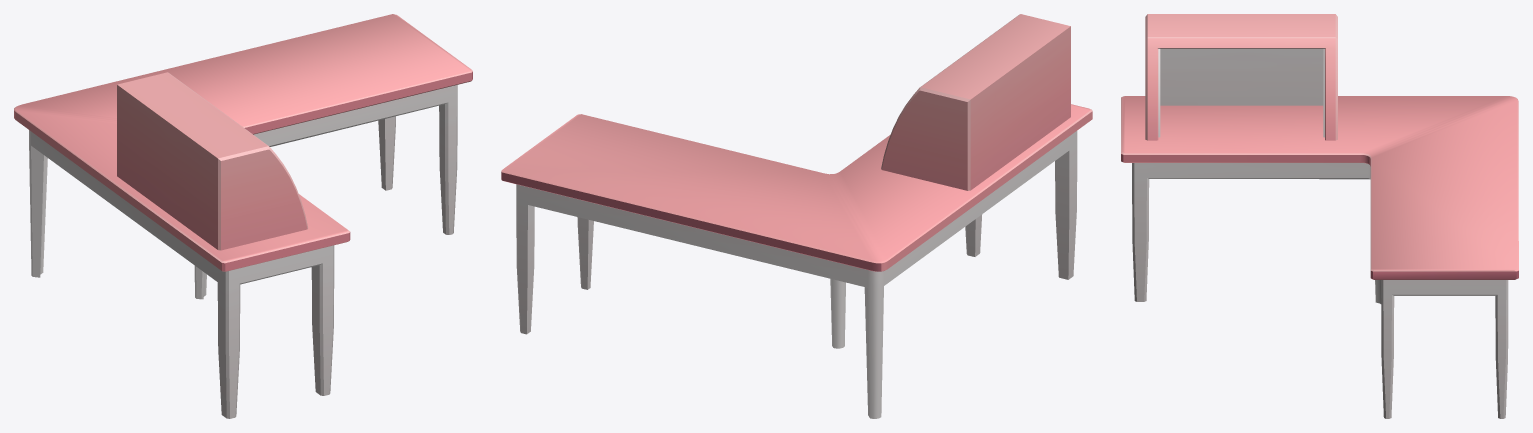
File: Doll_OB_Desk_001_collider.fbx
3 views of the same model, side by side, from view 1: azimuth 30°, elevation 25°; view 2: azimuth 150°, elevation 25°; view 3: azimuth 270°, elevation 25° (orthographic). The views are drawn at different scales.
Visible parts, largest first — view 1: Doll_OB_Desk_001_collider; view 2: Doll_OB_Desk_001_collider; view 3: Doll_OB_Desk_001_collider.
Boxes of the visible parts, left/top/right/bottom form: Doll_OB_Desk_001_collider: left=14, top=14, right=472, bottom=418; Doll_OB_Desk_001_collider: left=501, top=14, right=1092, bottom=418; Doll_OB_Desk_001_collider: left=1121, top=14, right=1518, bottom=418.
Size of the model in its own units: 183 by 116 by 175.
1 material, 1 textured.
